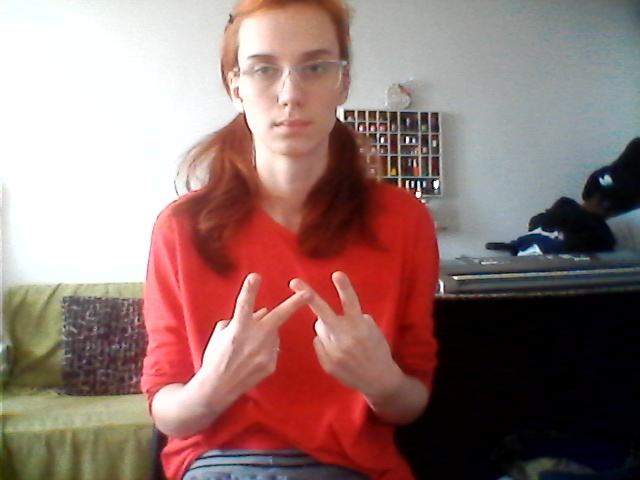w: (200, 261, 399, 400)
